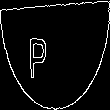P_N: (45, 29, 65, 81)
